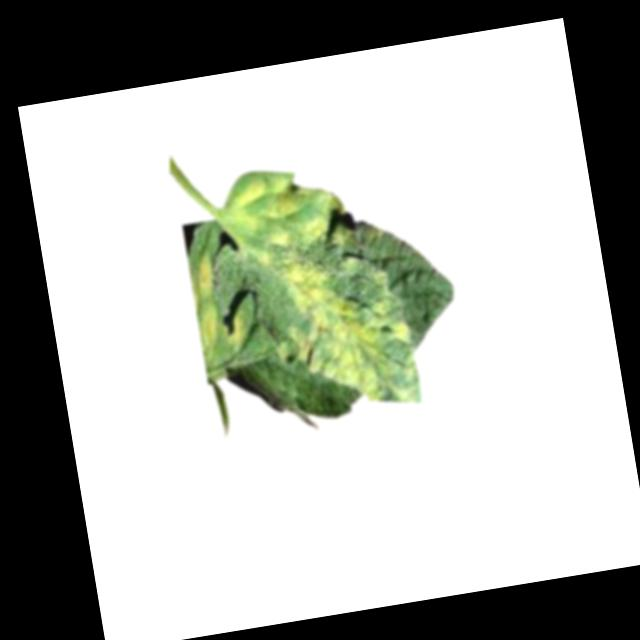Leaf_Mold: (261, 245, 423, 423), (220, 156, 355, 269), (192, 301, 223, 354), (191, 252, 216, 298), (223, 310, 246, 349)
